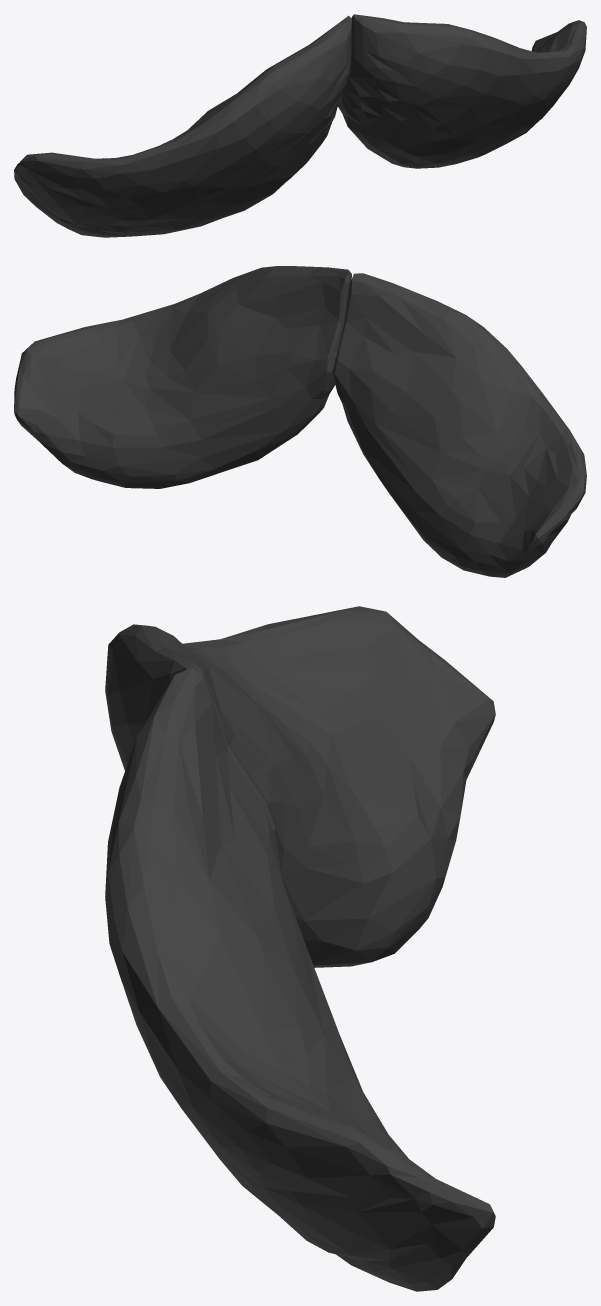
File: m_superficial_pectoralis_descending.glb
3 renders of one model, top to bottom at view 1: azimuth 30°, elevation 25°; view 2: azimuth 150°, elevation 25°; view 3: azimuth 270°, elevation 25°, orthographic. The views are drawn at different scales.
Visible parts, largest first — view 1: m_superficial_pectoralis_descending; view 2: m_superficial_pectoralis_descending; view 3: m_superficial_pectoralis_descending.
Part boxes in pixels (x1,y1,x2,y2): m_superficial_pectoralis_descending: (14, 14, 586, 237); m_superficial_pectoralis_descending: (14, 266, 586, 577); m_superficial_pectoralis_descending: (105, 606, 495, 1291).
Bounding box in the file's own units: 0.00568 × 0.0021 × 0.00171.
Materials: 1 (1 with a texture image).
